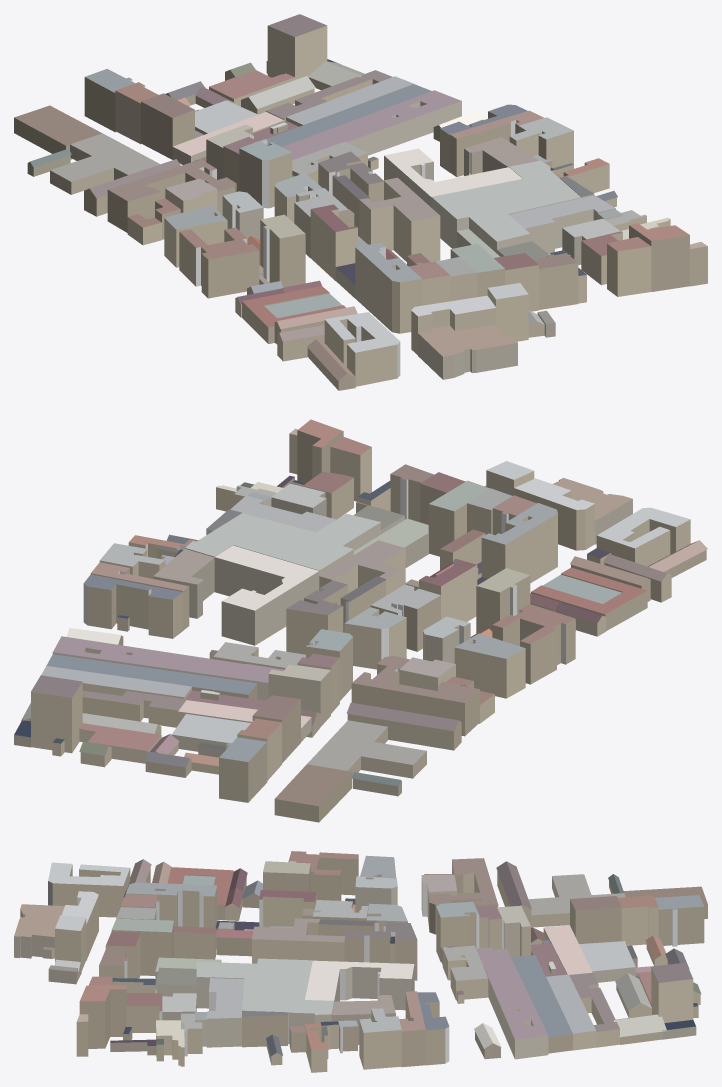
3 views of the same model, one above another, from view 1: azimuth 30°, elevation 25°; view 2: azimuth 150°, elevation 25°; view 3: azimuth 270°, elevation 25° (orthographic). The views are drawn at different scales.
Parts seen in each view (by area): view 1: tuile; view 2: tuile; view 3: tuile.
Boxes of the visible parts, x1,y1,x2,y2 form: tuile: [14, 14, 707, 390]; tuile: [14, 419, 707, 822]; tuile: [14, 851, 707, 1072].
Size of the model in its own units: 173 by 24.29 by 265.
